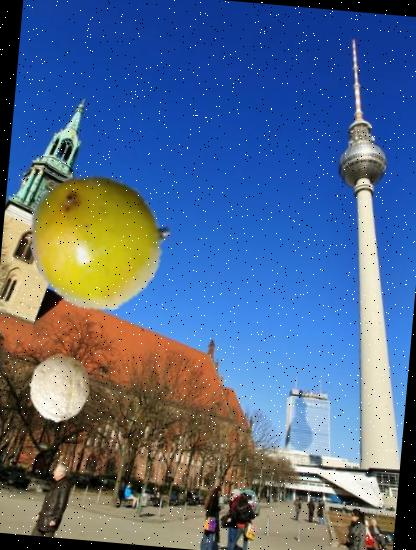Cantaloupe: (22, 352, 96, 426)
Maracuja: (25, 163, 178, 316)
